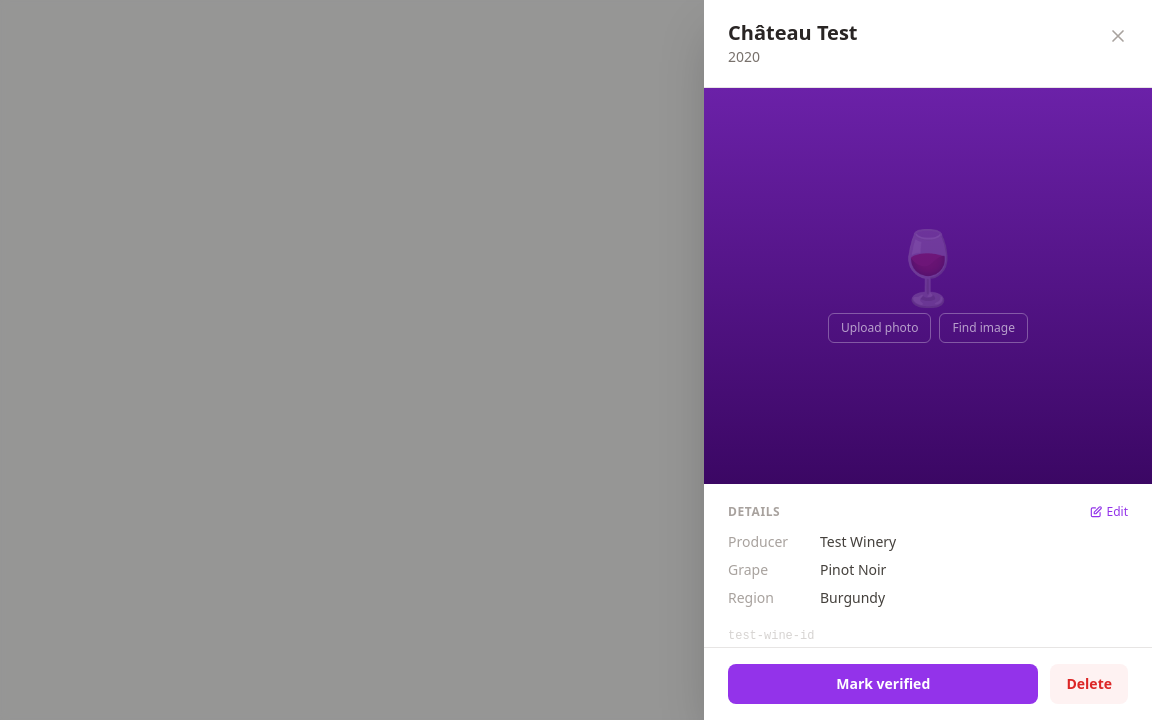
startEdit populates draft with wine data
The width and height of the screenshot is (1152, 720).
Click the button "Edit" at (1108, 512), box [1088,504,1128,520]
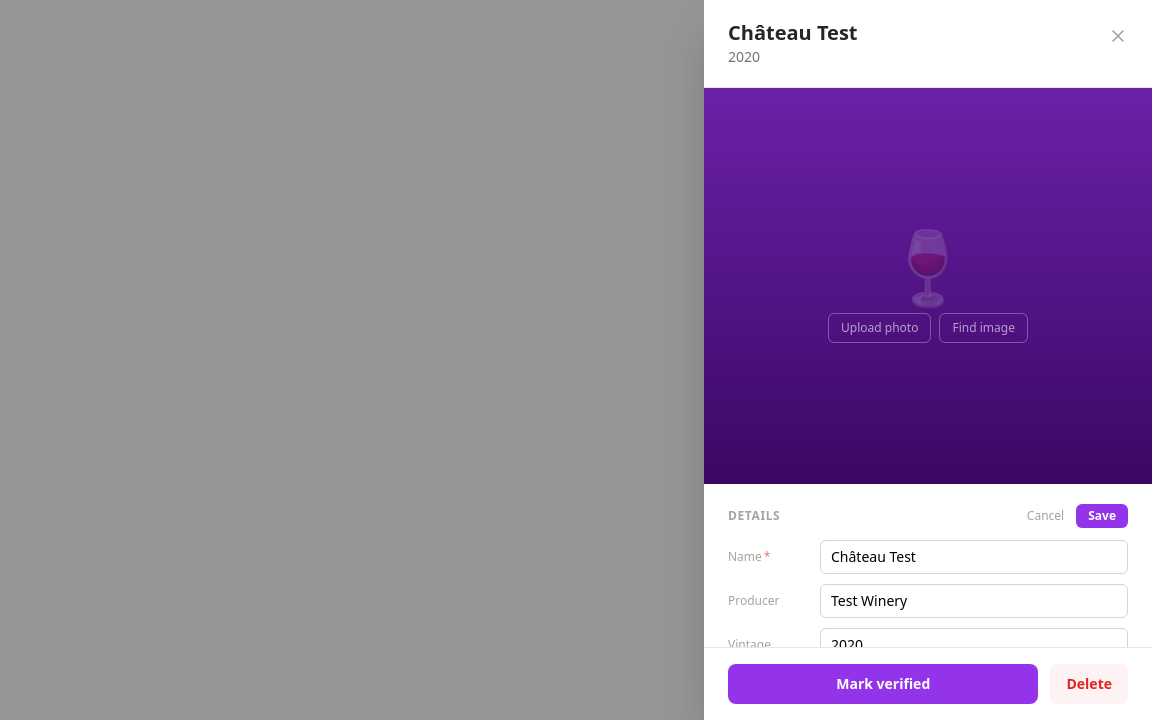
Check: the field showing "Château Test" next to "Name" is shown, box [820,540,1128,574]
Check: the field showing "Test Winery" next to "Producer" is shown, box [820,584,1128,618]
